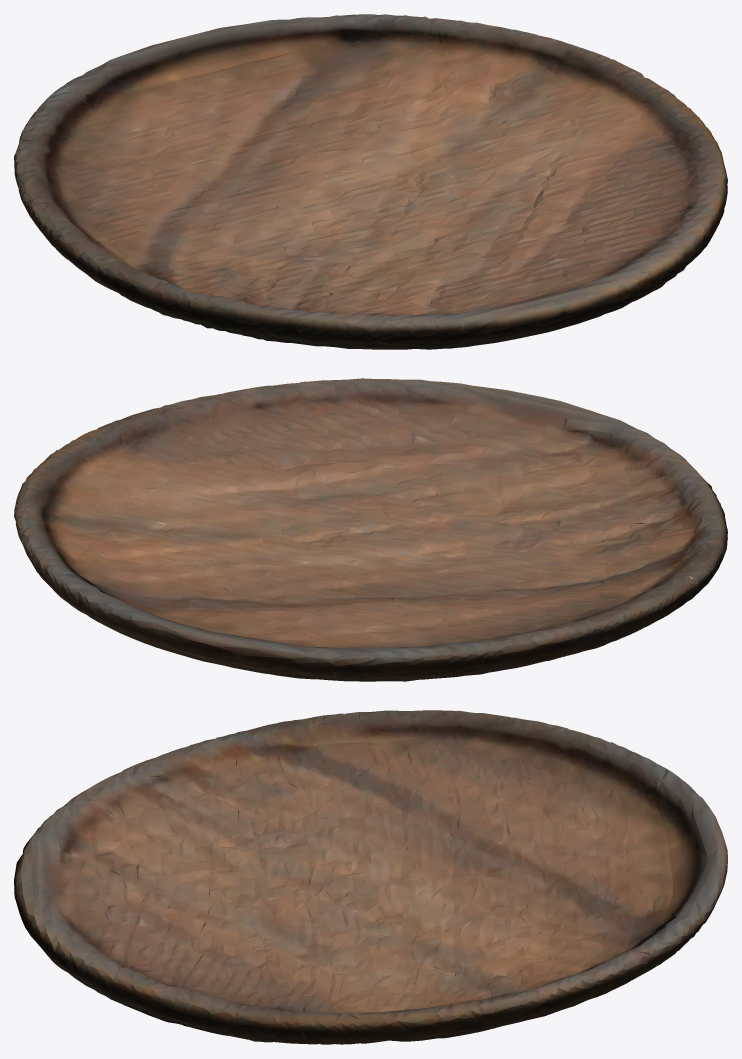
File: product-5-acacia-tray.glb
The picture shows the model from 3 angles, top to bottom: view 1: azimuth 30°, elevation 25°; view 2: azimuth 150°, elevation 25°; view 3: azimuth 270°, elevation 25°; orthographic projection.
Visible parts, largest first — view 1: mesh.glb; view 2: mesh.glb; view 3: mesh.glb.
Boxes of the visible parts, <box> form: mesh.glb: <box>14,14,727,349</box>; mesh.glb: <box>14,378,727,681</box>; mesh.glb: <box>14,710,727,1044</box>.
Size of the model in its own units: 0.9093 by 0.1856 by 0.9021.
1 material, 1 textured.
